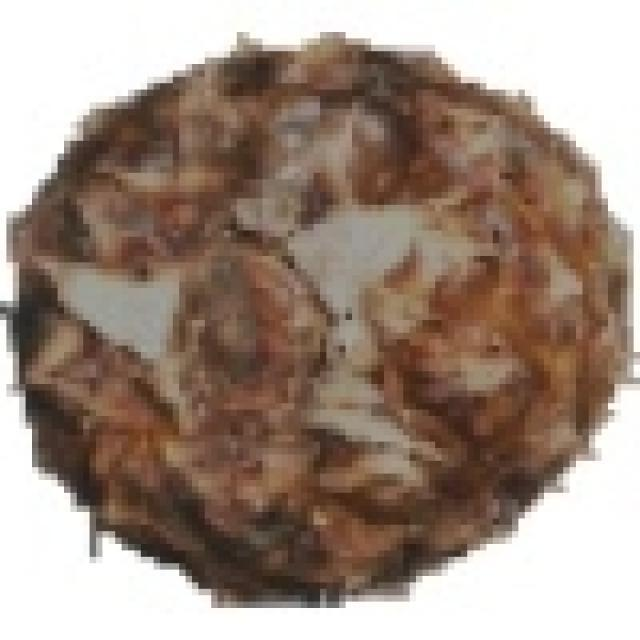pineapple: (26, 32, 634, 589)
